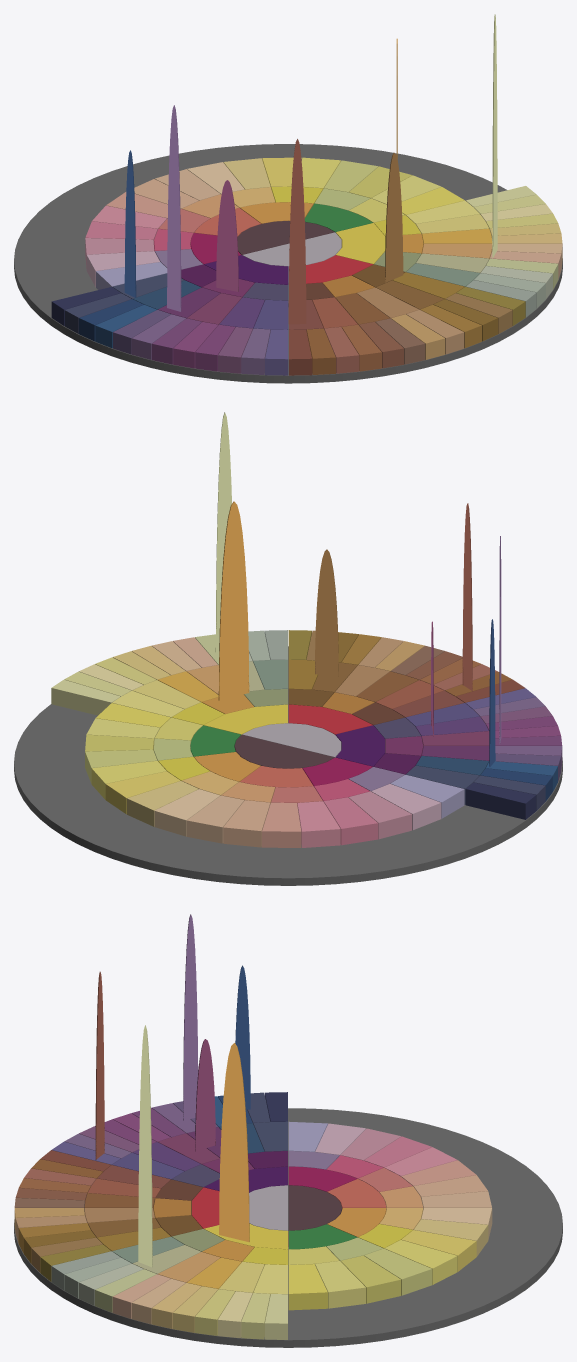
The model's file is wheel_sectors2.gltf.
3 renders of one model, top to bottom at view 1: azimuth 30°, elevation 25°; view 2: azimuth 150°, elevation 25°; view 3: azimuth 270°, elevation 25°, orthographic.
Visible parts, largest first — view 1: Curve, Cylinder.003, Cylinder.006, Cylinder.004, Cylinder.002, Curve.002, Curve.001, Curve.009, Cylinder.005, Cylinder.007, Curve.008, Curve.006 (+86 smaller); view 2: Curve, Cylinder.001, Cylinder.002, Cylinder.007, Curve.002, Curve.001, Curve.061, Curve.031, Curve.030, Curve.033, Curve.032, Cylinder.003 (+81 smaller); view 3: Curve, Cylinder.001, Cylinder.007, Cylinder.006, Curve.002, Cylinder.004, Curve.042, Curve.041, Curve.001, Curve.040, Curve.039, Cylinder.003 (+82 smaller).
Boxes of the visible parts, x1=… form: Curve: x1=14, y1=144, x2=562, y2=383; Cylinder.003: x1=288, y1=139, x2=306, y2=324; Cylinder.006: x1=167, y1=105, x2=181, y2=311; Cylinder.004: x1=216, y1=180, x2=238, y2=291; Cylinder.002: x1=385, y1=152, x2=403, y2=282; Curve.002: x1=237, y1=220, x2=334, y2=254; Curve.001: x1=242, y1=232, x2=341, y2=282; Curve.009: x1=336, y1=223, x2=385, y2=264; Cylinder.005: x1=124, y1=150, x2=136, y2=297; Cylinder.007: x1=492, y1=14, x2=497, y2=257; Curve.008: x1=289, y1=255, x2=372, y2=283; Curve.006: x1=304, y1=203, x2=372, y2=232; Curve: x1=14, y1=646, x2=562, y2=885; Cylinder.001: x1=218, y1=501, x2=249, y2=700; Cylinder.002: x1=315, y1=549, x2=338, y2=676; Cylinder.007: x1=215, y1=412, x2=231, y2=652; Curve.002: x1=234, y1=735, x2=334, y2=768; Curve.001: x1=242, y1=723, x2=341, y2=757; Curve.061: x1=465, y1=782, x2=536, y2=819; Curve.031: x1=297, y1=801, x2=340, y2=847; Curve.030: x1=323, y1=797, x2=378, y2=845; Curve.033: x1=223, y1=800, x2=270, y2=847; Curve.032: x1=262, y1=802, x2=301, y2=847; Cylinder.003: x1=462, y1=503, x2=472, y2=691; Curve: x1=14, y1=1108, x2=562, y2=1347; Cylinder.001: x1=219, y1=1043, x2=249, y2=1241; Cylinder.007: x1=138, y1=1025, x2=152, y2=1267; Cylinder.006: x1=183, y1=914, x2=198, y2=1120; Curve.002: x1=288, y1=1185, x2=341, y2=1246; Cylinder.004: x1=195, y1=1039, x2=215, y2=1151; Curve.042: x1=288, y1=1264, x2=327, y2=1310; Curve.041: x1=315, y1=1261, x2=365, y2=1308; Curve.001: x1=249, y1=1185, x2=287, y2=1230; Curve.040: x1=340, y1=1255, x2=401, y2=1303; Curve.039: x1=364, y1=1248, x2=432, y2=1295; Cylinder.003: x1=95, y1=971, x2=104, y2=1159.
Size of the model in its own units: 0.4905 by 0.2686 by 0.4904.
